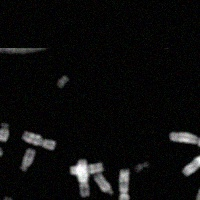chromosome: (22, 132, 55, 149), (182, 146, 200, 176), (169, 133, 200, 149), (78, 159, 89, 197), (69, 162, 104, 173), (95, 174, 113, 194), (118, 169, 129, 200), (21, 148, 35, 171), (195, 158, 200, 200), (57, 75, 69, 88), (0, 124, 8, 141), (135, 162, 148, 172), (0, 146, 2, 163), (1, 197, 12, 200)
